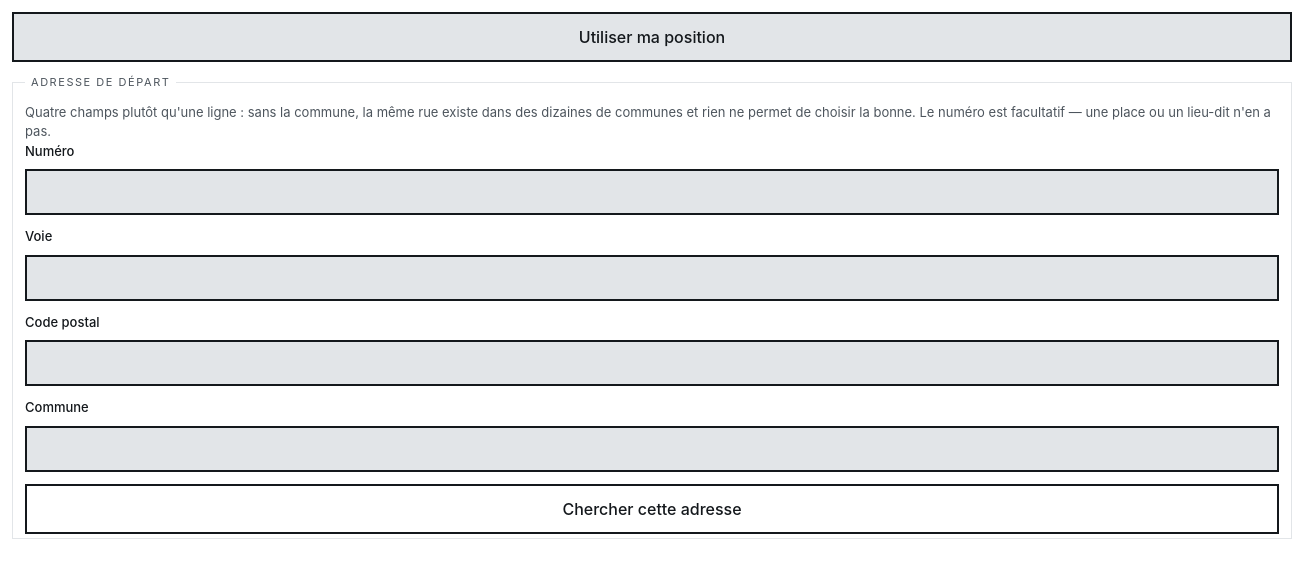
it: la géolocalisation n'est jamais le seul chemin › laisse le formulaire entier quand le navigateur refuse la position
Step 1. Click the button "Utiliser ma position" → x=652, y=37, box [12,12,1292,62]
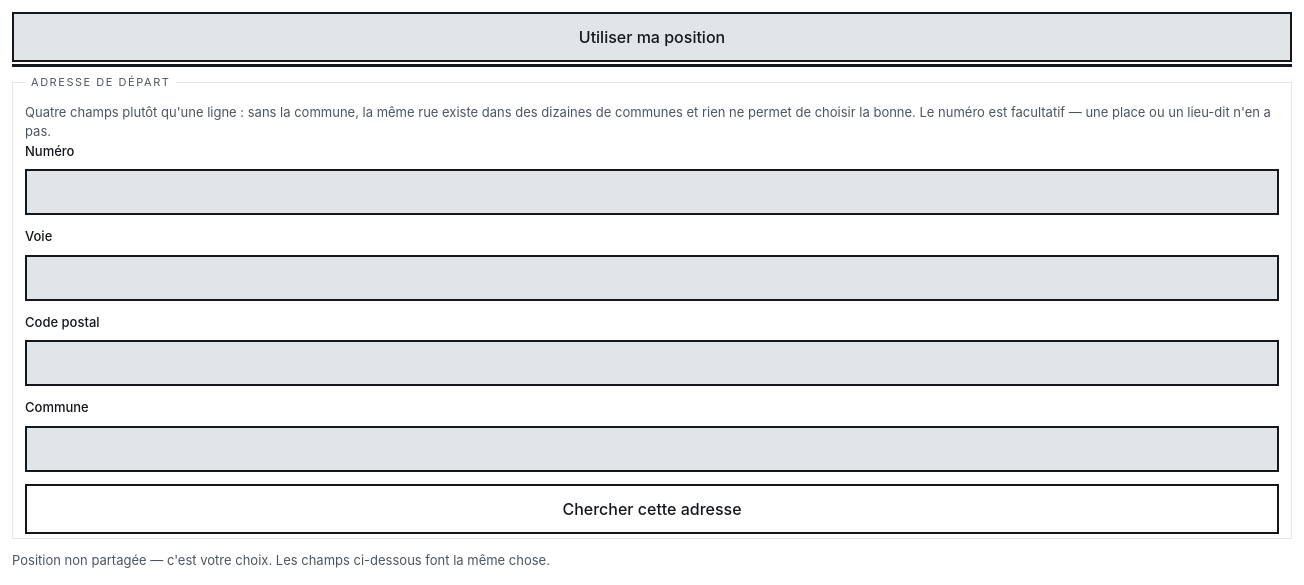
Expected: the field labelled "Numéro" is shown, [25,169,1279,215]
Now the text "votre choix" is shown, box [12,552,550,568]
